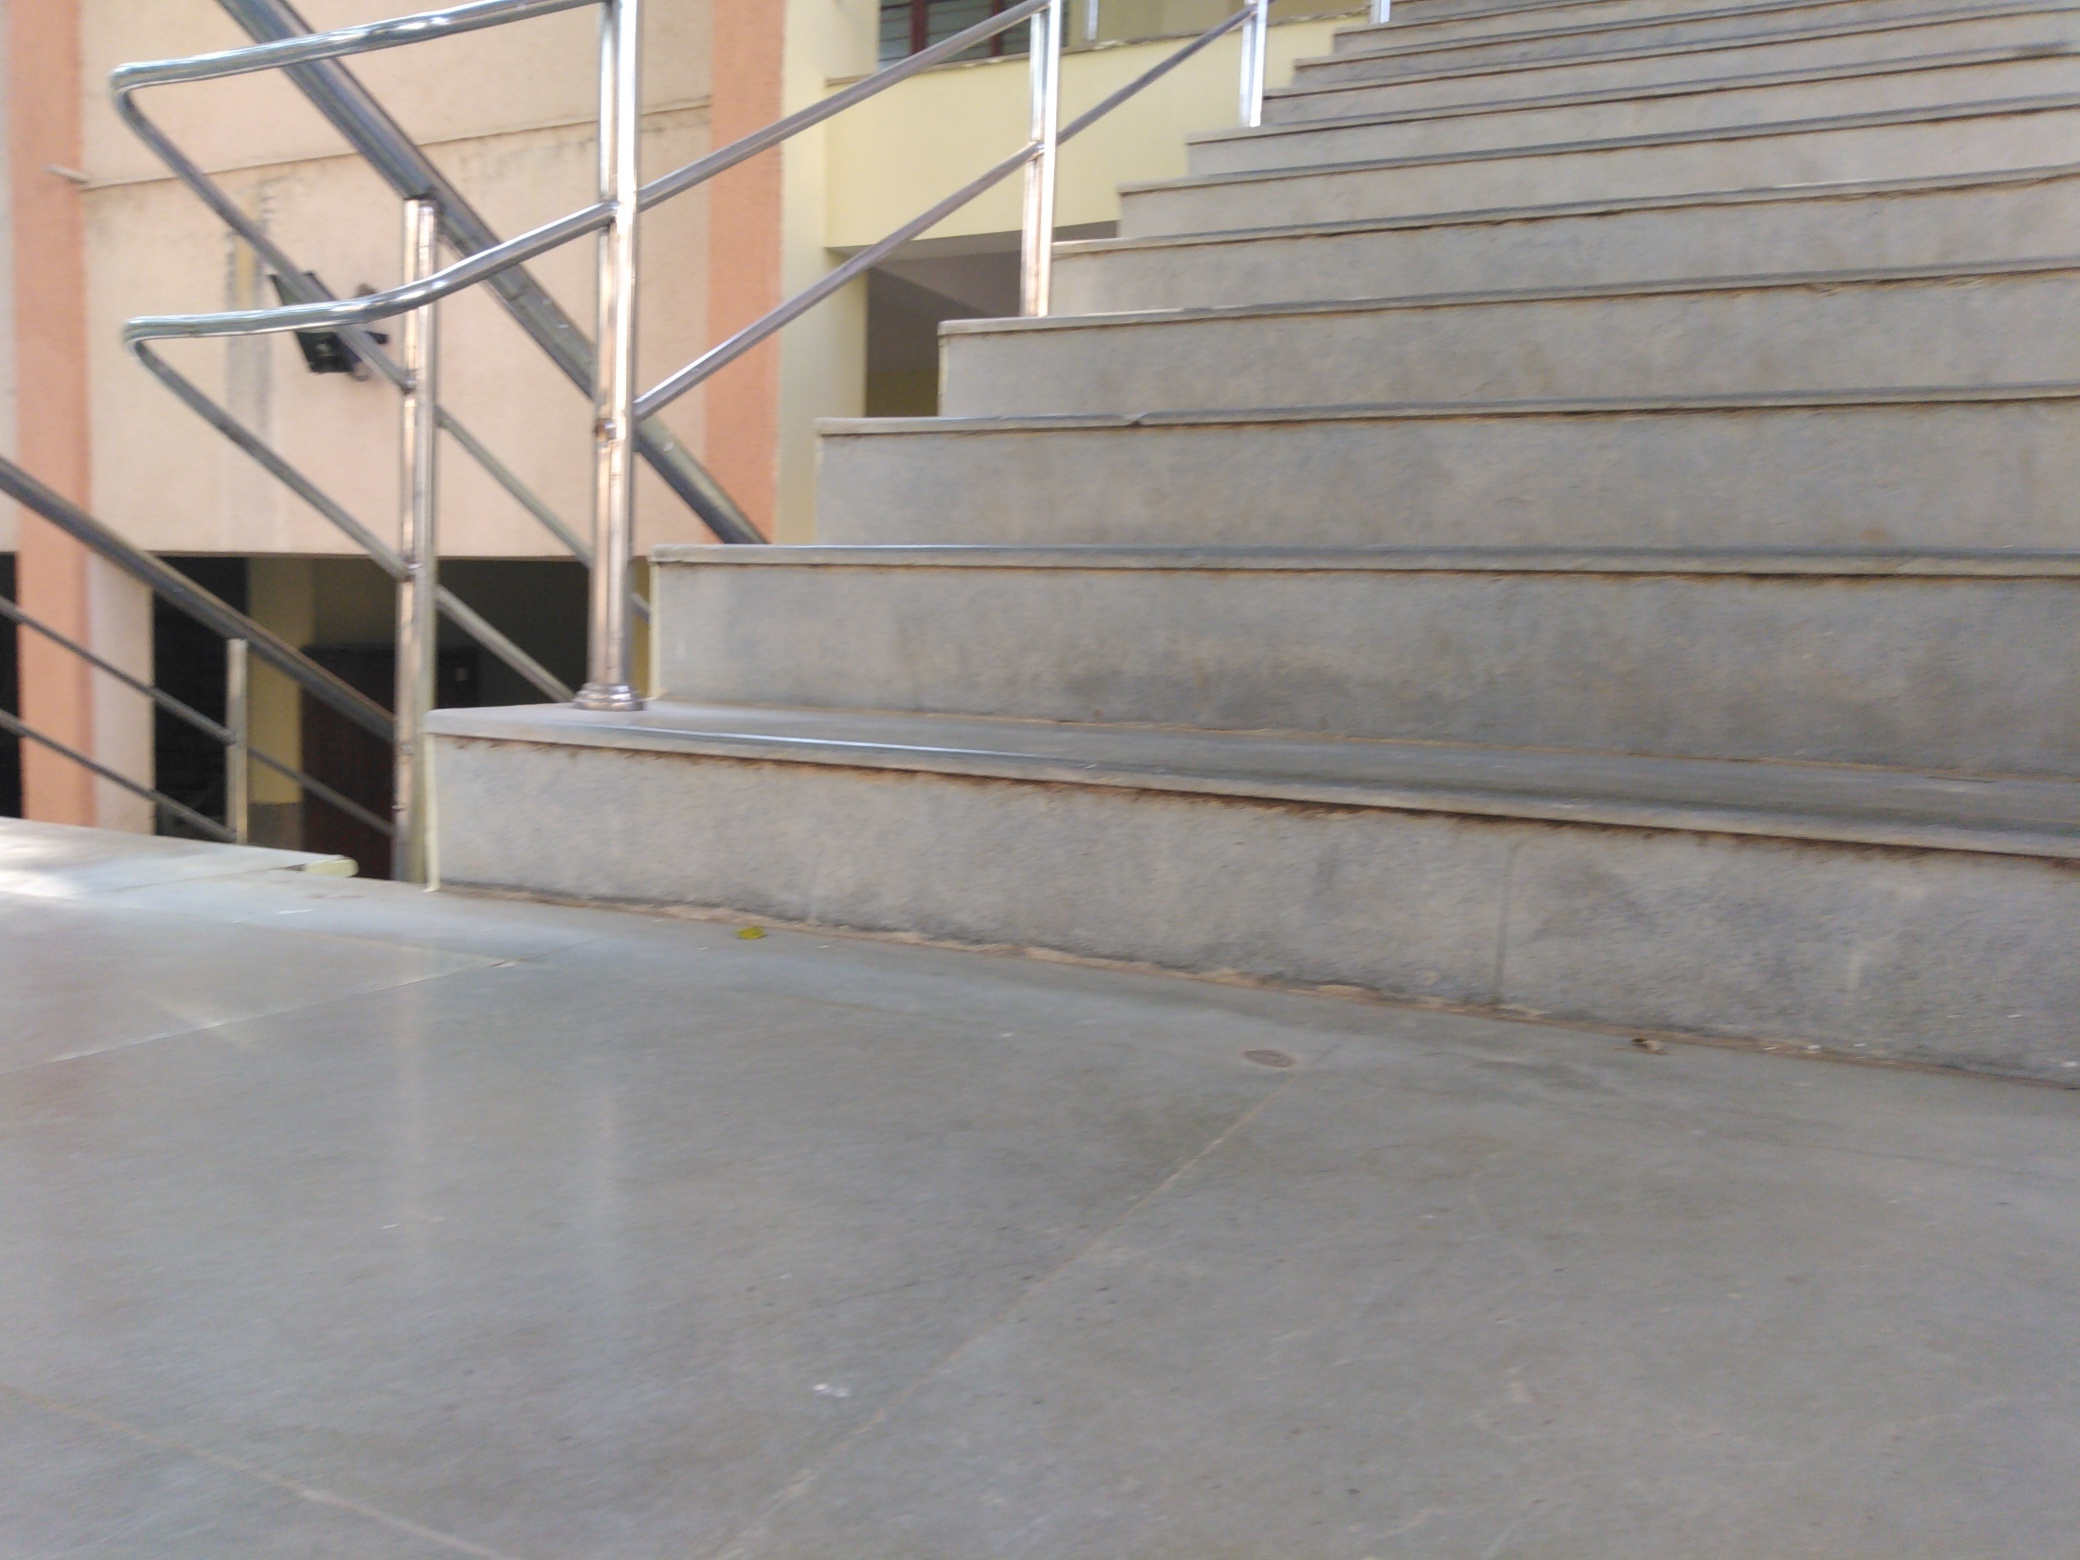stairs_up: (405, 11, 2064, 1014)
